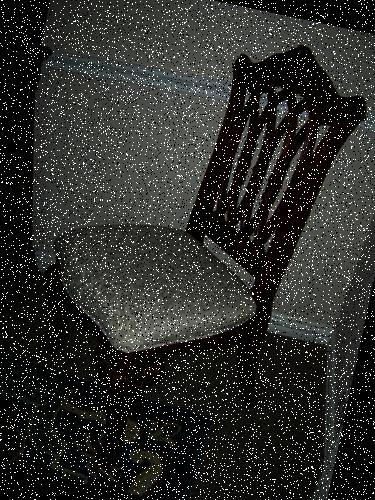Silla: (9, 6, 374, 499)
